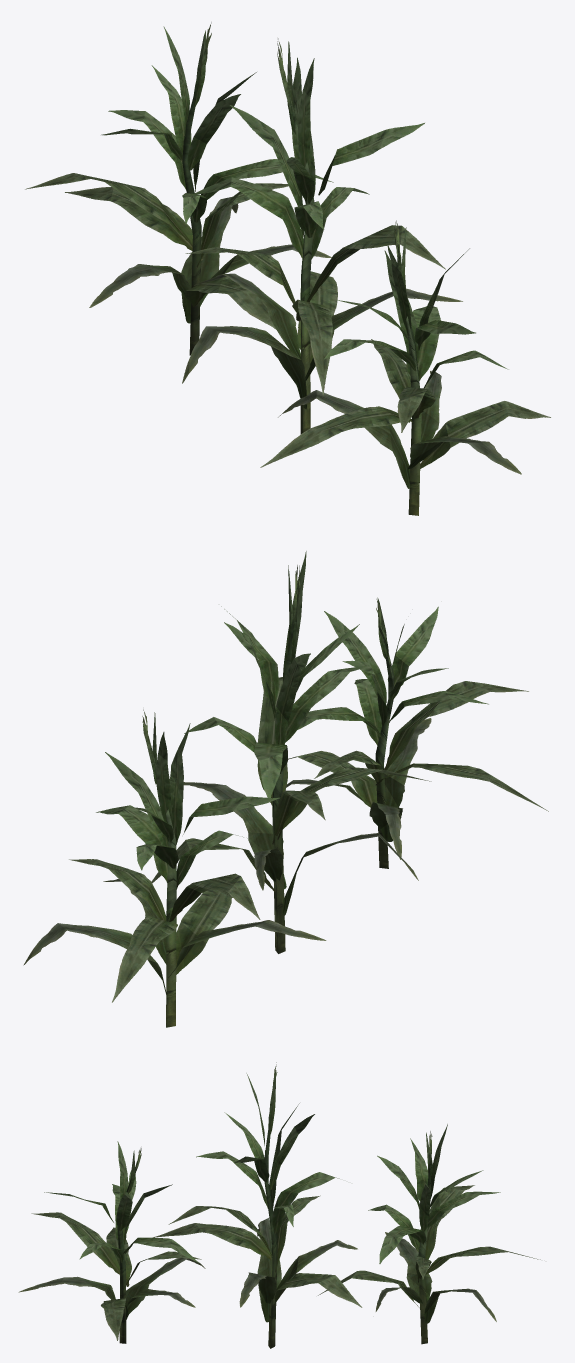
The model's file is bg_anh_foliage_crops17_sm_ksy.FBX.
3 renders of one model, top to bottom at view 1: azimuth 30°, elevation 25°; view 2: azimuth 150°, elevation 25°; view 3: azimuth 270°, elevation 25°, orthographic. The views are drawn at different scales.
Parts seen in each view (by area): view 1: bg_anh_foliage_crops17_sm_ksy; view 2: bg_anh_foliage_crops17_sm_ksy; view 3: bg_anh_foliage_crops17_sm_ksy.
Part boxes in pixels (<box>): bg_anh_foliage_crops17_sm_ksy: <box>25,22,550,515</box>; bg_anh_foliage_crops17_sm_ksy: <box>23,551,548,1027</box>; bg_anh_foliage_crops17_sm_ksy: <box>18,1062,540,1348</box>.
Size of the model in its own units: 163 by 205 by 360.
